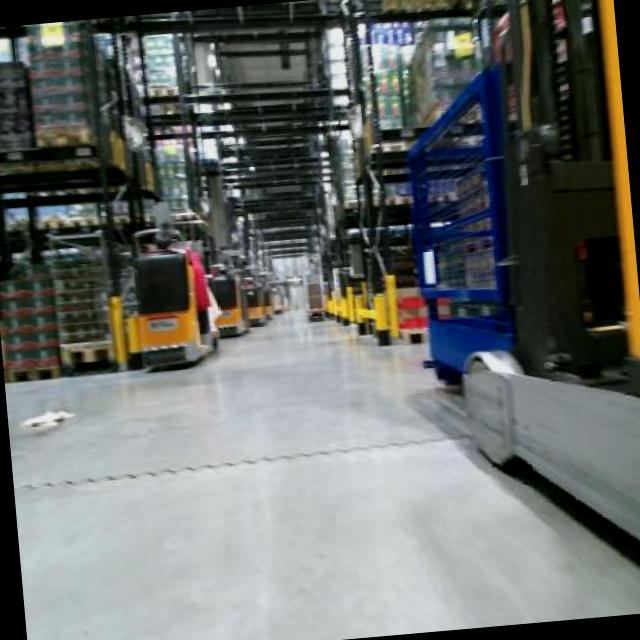pallet: (54, 329, 120, 374), (3, 361, 59, 385)
